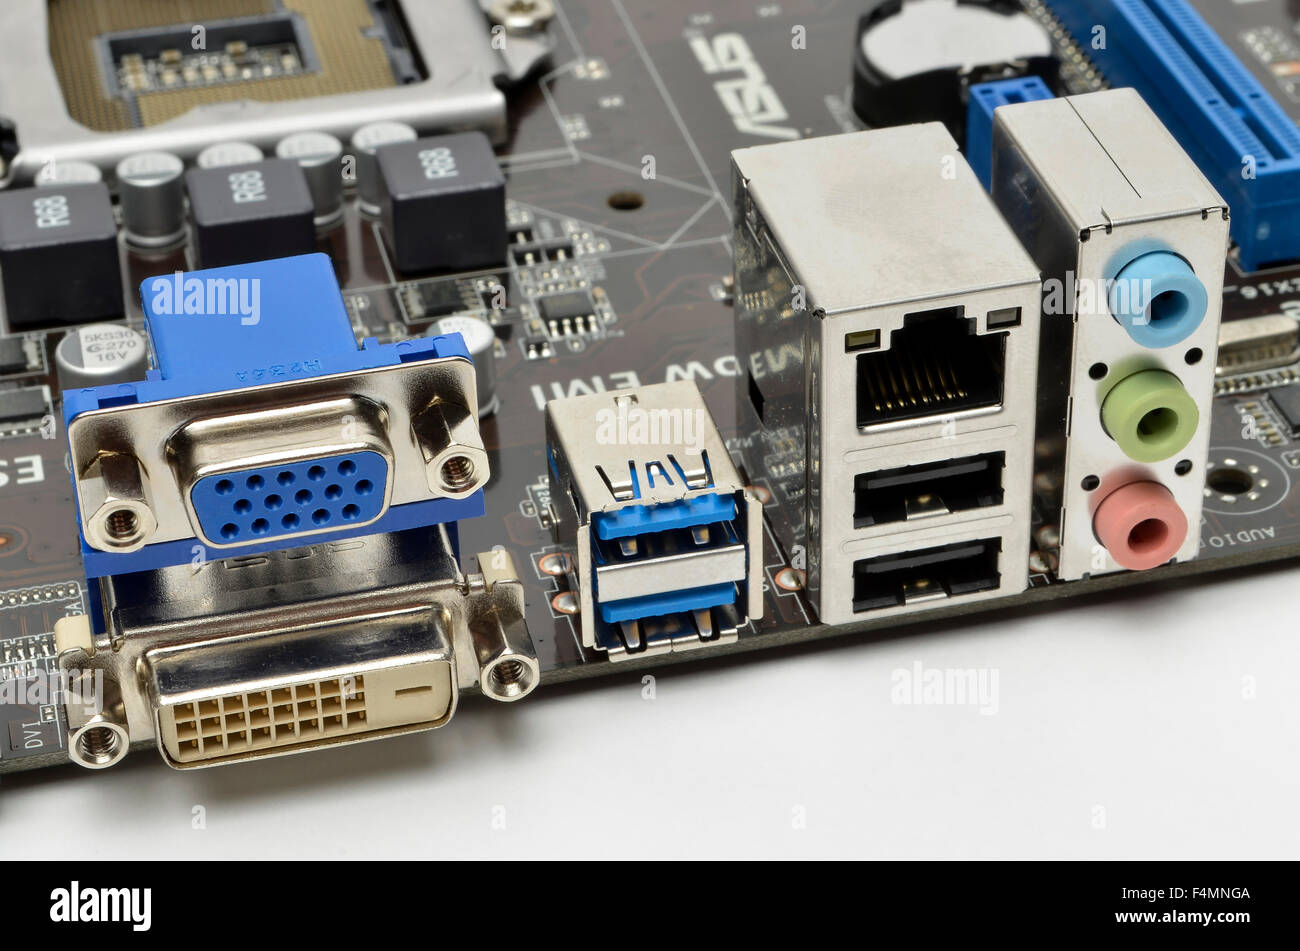Audio: (1088, 247, 1210, 358), (1091, 371, 1205, 465), (1093, 496, 1190, 575)
DVI: (135, 643, 481, 752)
Ethernet: (832, 319, 1038, 430)
USB: (842, 530, 1014, 612), (846, 453, 1009, 533), (590, 490, 742, 573)
VGA: (152, 426, 423, 547)
